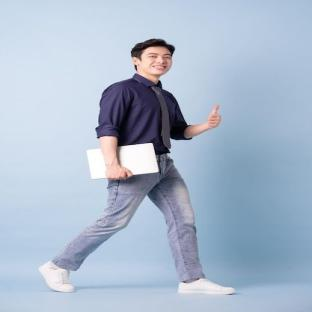Human: (40, 39, 234, 294)
